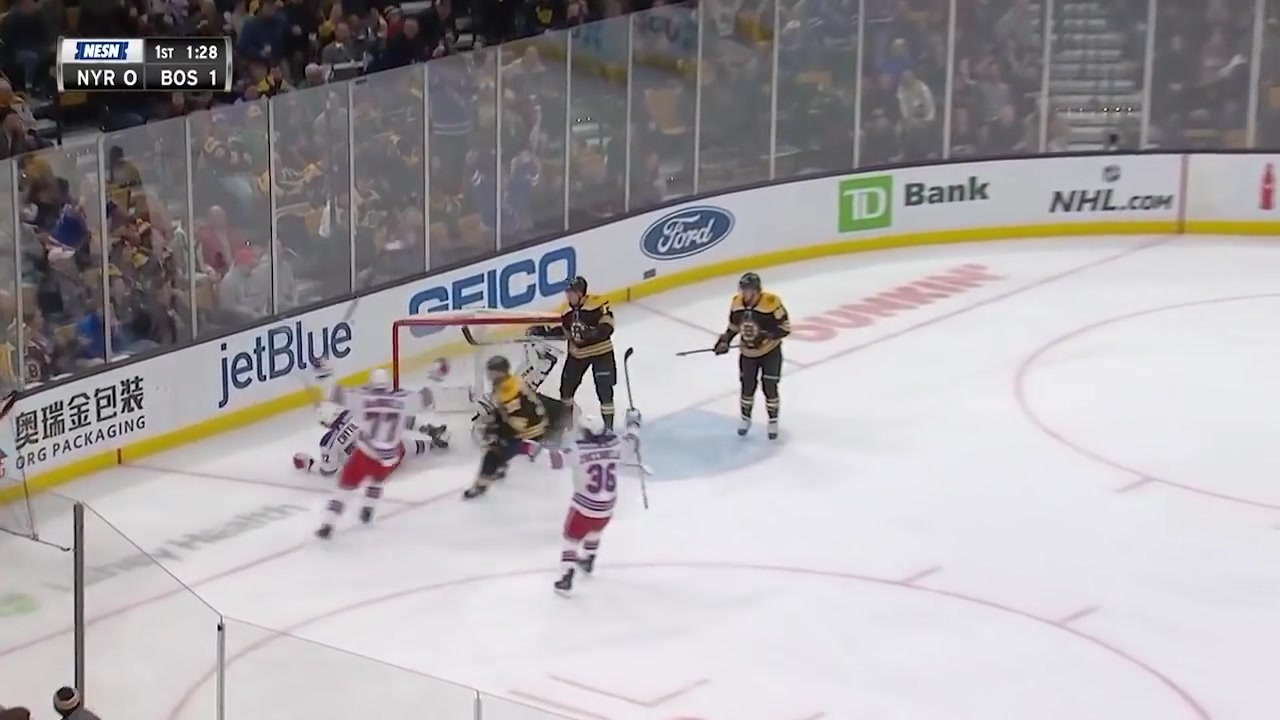Geico: (400, 240, 583, 333)
